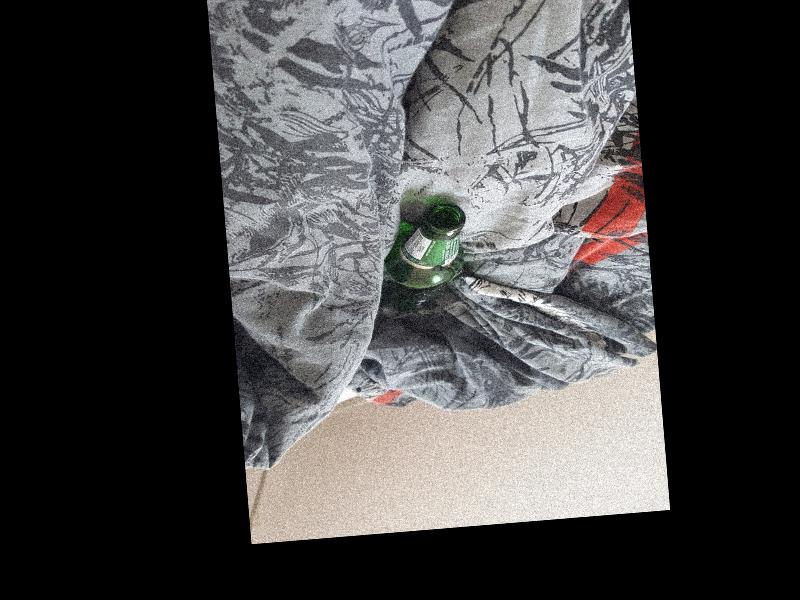Beer: (380, 201, 469, 310)
